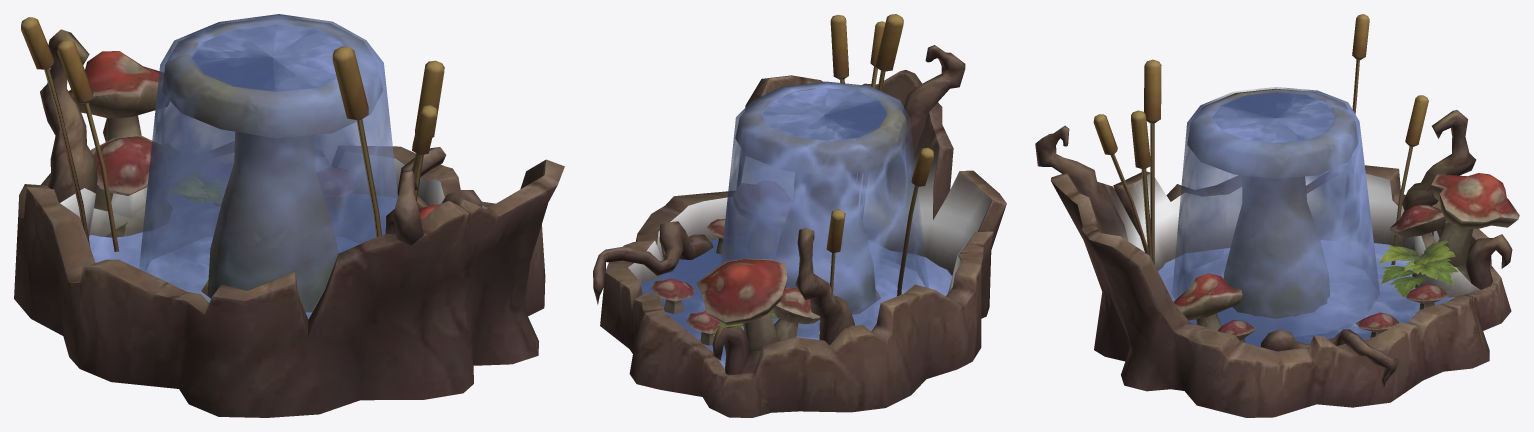
The picture shows the model from 3 angles, left to right: view 1: azimuth 30°, elevation 25°; view 2: azimuth 150°, elevation 25°; view 3: azimuth 270°, elevation 25°; orthographic projection. The views are drawn at different scales.
Size of the model in its own units: 2.18 by 1.58 by 2.65.
5 materials, 5 textured.
